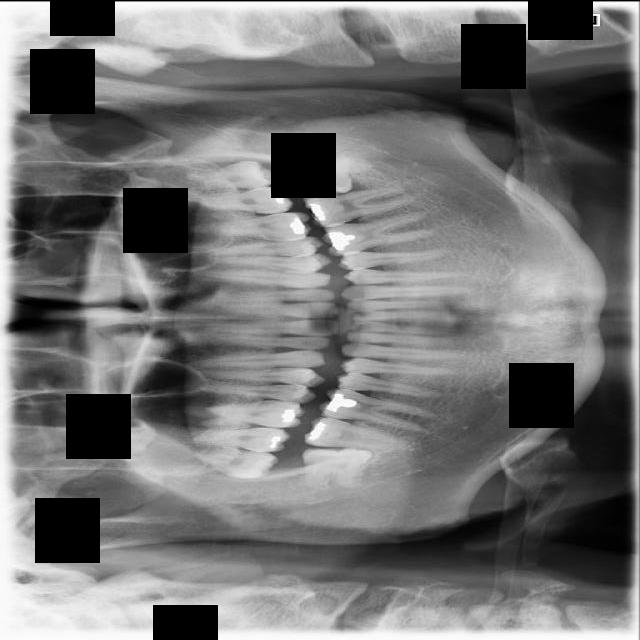3M ESPE Implant: (191, 442, 280, 481)
52: (300, 179, 356, 236), (317, 380, 365, 427), (319, 217, 368, 258), (304, 415, 351, 448), (260, 211, 310, 242), (256, 398, 303, 428), (245, 185, 292, 214), (242, 426, 291, 452)
73: (585, 57, 591, 61)
BioHorizons Implant: (177, 185, 293, 214)
BioLife Implant: (183, 157, 280, 193)
Biomet 3i Implant: (285, 142, 356, 196)
Blue Sky Bio Implant: (300, 184, 414, 230)
Caries: (173, 426, 292, 452)
Implant: (302, 415, 407, 451)
Keystone Dental Implant: (301, 446, 373, 491)
